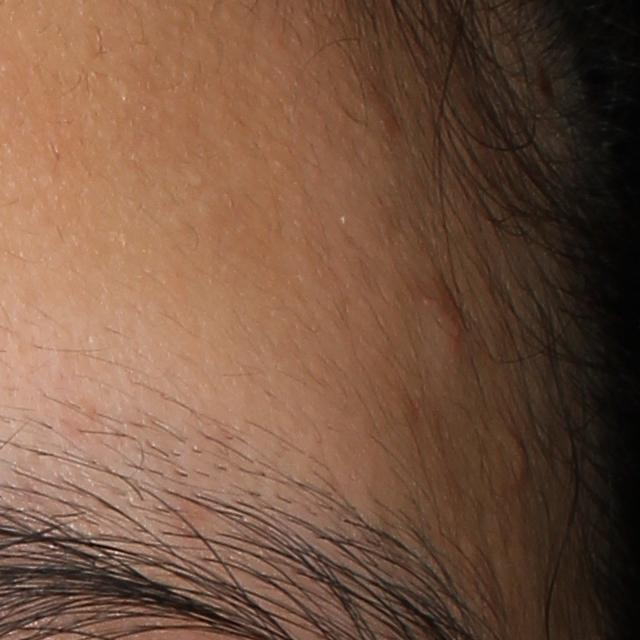papule: (433, 296, 468, 355), (506, 428, 534, 484)
